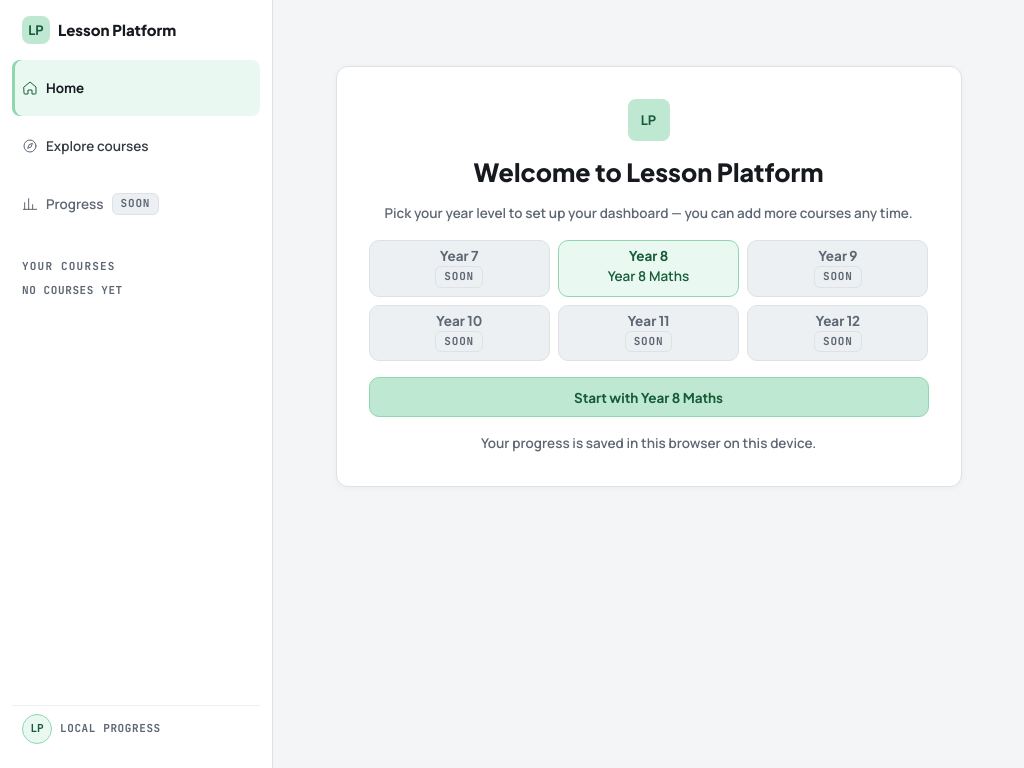
First-visit onboarding (/) › Start with [selection] joins the course and lands on its dashboard
What coordinates should you click on to do the following:
click the button "Start with Year 8 Maths"
I would click on:
 (648, 397)
Its box is [368, 377, 928, 417].
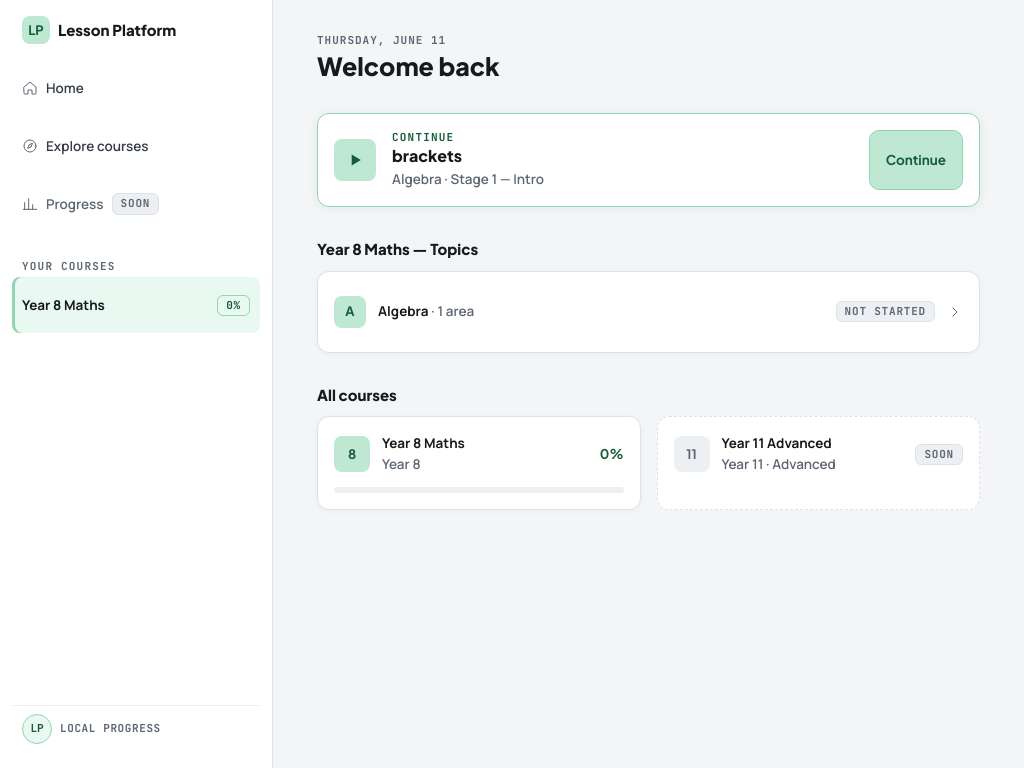
Check: the heading "Year 8 Maths — Topics" is shown, box [317, 239, 478, 258]
